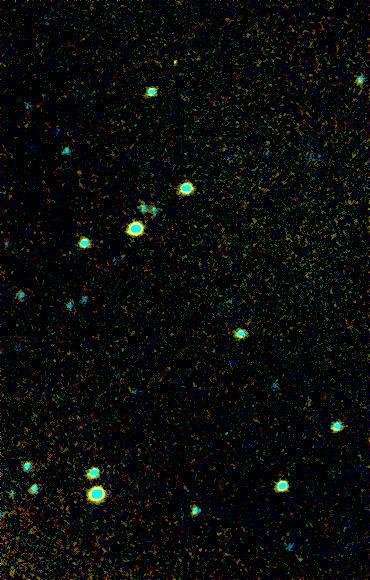star: (159, 49, 189, 79)
